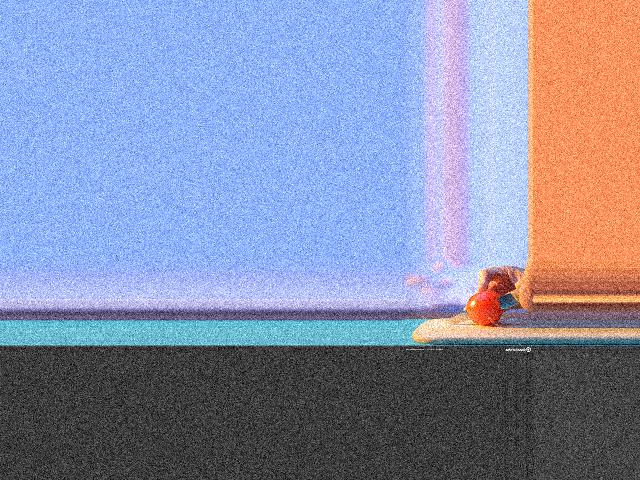tomato: (465, 291, 502, 326)
